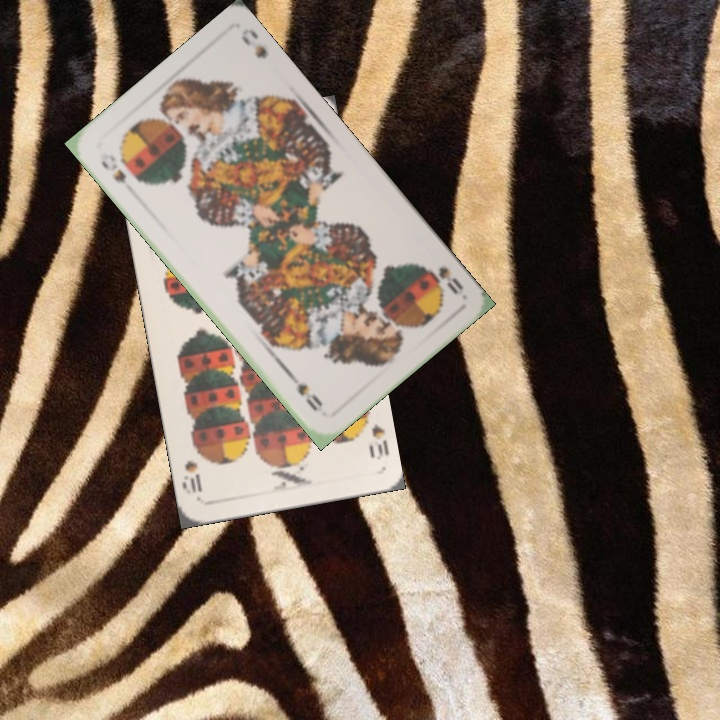S10: (357, 408, 391, 463)
SO: (418, 260, 466, 298), (96, 157, 137, 196)
